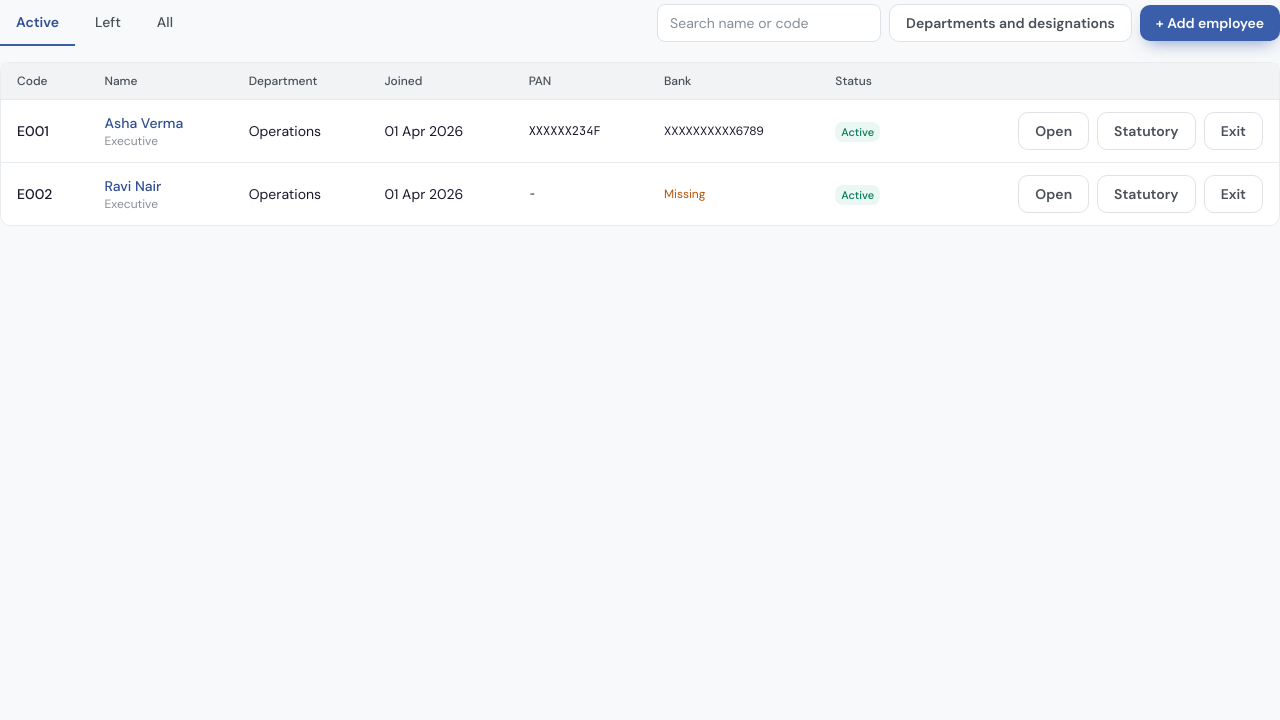
Test: EmployeesTab › offers the Statutory button only when a registration is on, and PF fields only with PF
This screenshot has width=1280, height=720.
Click the button "Statutory" in the row of "E001" at (1146, 131), box [1097, 112, 1196, 150]
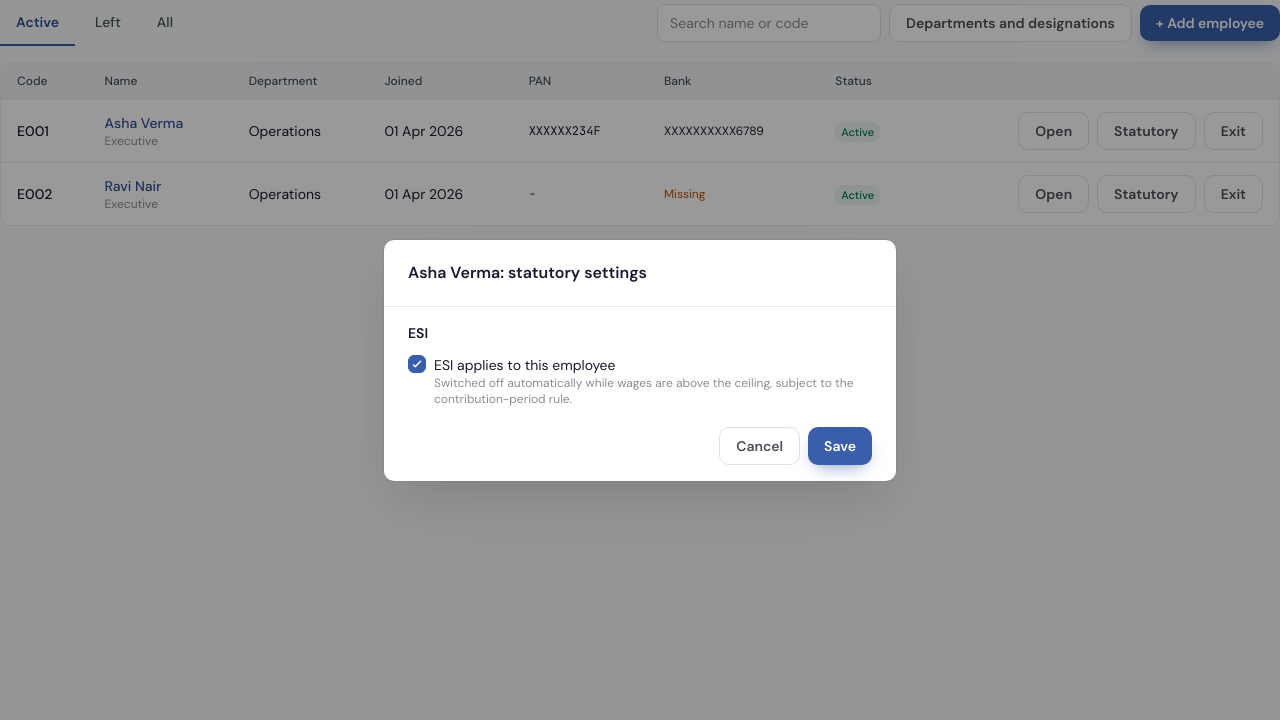
Expected: the text "ESI applies to this employee" is shown, [434, 356, 615, 374]
